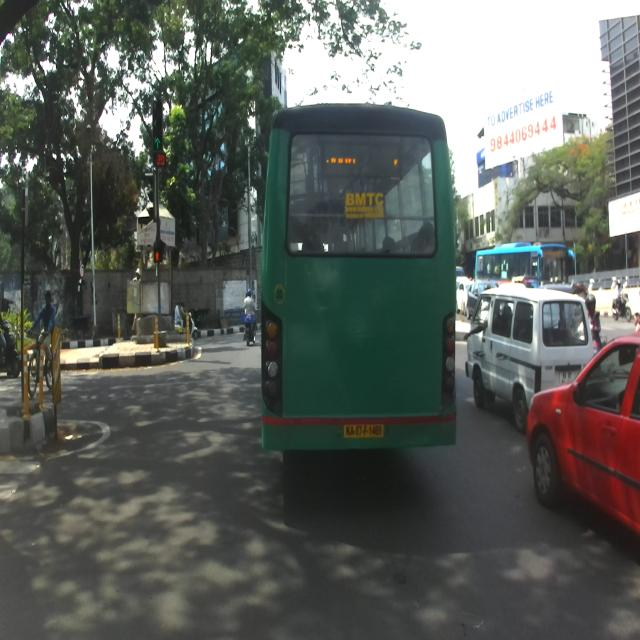bus ahead at: (265, 111, 456, 444)
car ahead at: (531, 333, 640, 540), (469, 285, 536, 413)
traffic signal ahead at: (149, 100, 166, 170)
